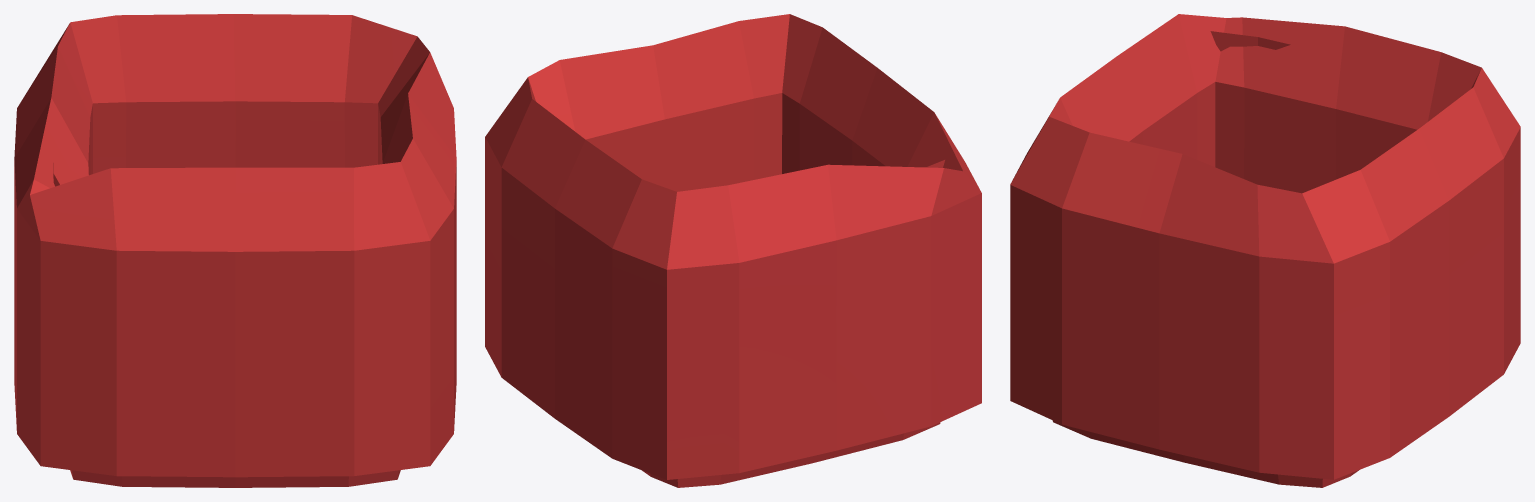
File: pencil-pot.gltf
3 renders of one model, left to right at view 1: azimuth 30°, elevation 25°; view 2: azimuth 150°, elevation 25°; view 3: azimuth 270°, elevation 25°, orthographic. The views are drawn at different scales.
Parts seen in each view (by area): view 1: PencilHolder; view 2: PencilHolder; view 3: PencilHolder.
Part boxes in pixels (x1=…): PencilHolder: x1=14, y1=14, x2=456, y2=487; PencilHolder: x1=485, y1=14, x2=981, y2=487; PencilHolder: x1=1010, y1=14, x2=1520, y2=487.
Size of the model in its own units: 0.101 by 0.0709 by 0.101.
1 material, 1 textured.
